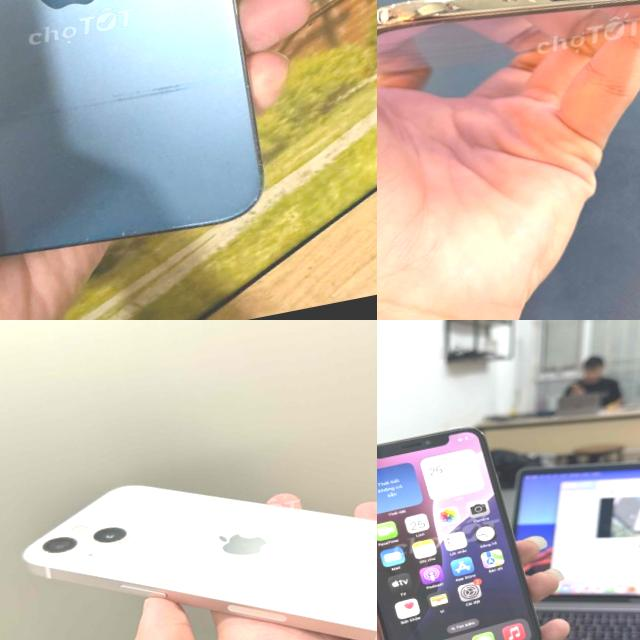gen_12_13: (0, 0, 306, 295), (7, 420, 377, 640)
gen_x_xs: (377, 416, 548, 640)
